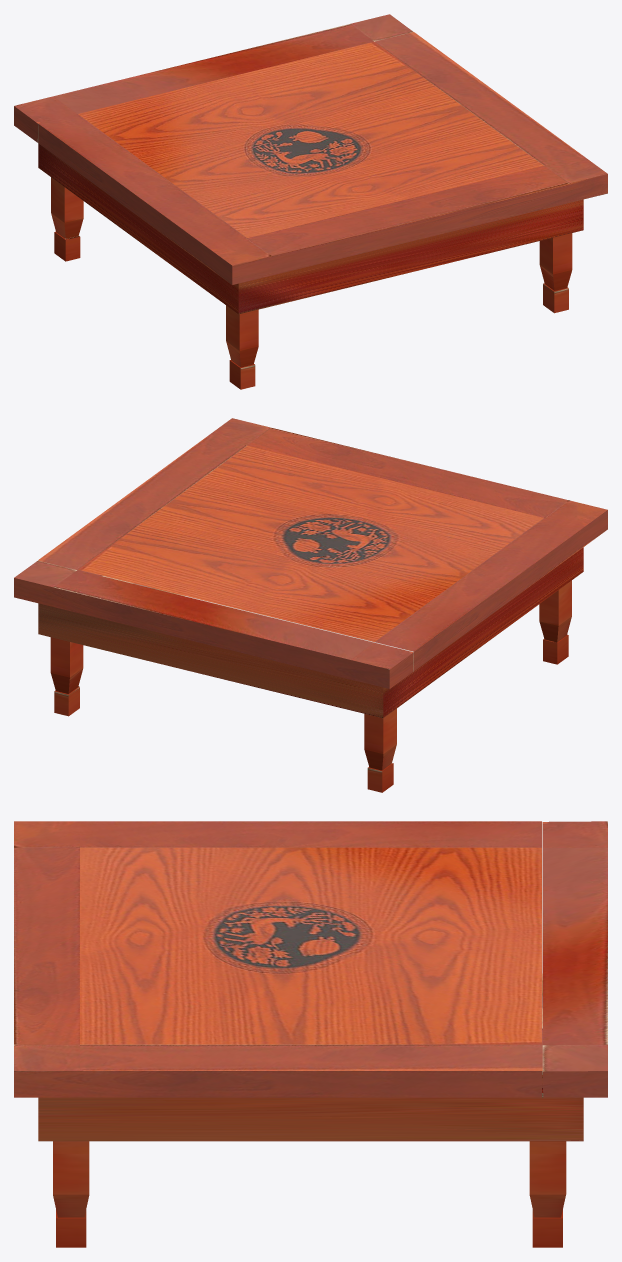
File: diningtable.fbx
The picture shows the model from 3 angles, top to bottom: view 1: azimuth 30°, elevation 25°; view 2: azimuth 150°, elevation 25°; view 3: azimuth 270°, elevation 25°; orthographic projection. The views are drawn at different scales.
Visible parts, largest first — view 1: Cube.002, Cube.004, Cube.005; view 2: Cube.002, Cube.004, Cube.005; view 3: Cube.002, Cube.004, Cube.005.
Boxes of the visible parts, bbox=[...] form: Cube.002: bbox=[14, 14, 607, 284]; Cube.004: bbox=[38, 143, 583, 314]; Cube.005: bbox=[51, 177, 572, 389]; Cube.002: bbox=[14, 418, 607, 688]; Cube.004: bbox=[38, 547, 583, 763]; Cube.005: bbox=[50, 580, 571, 792]; Cube.002: bbox=[14, 821, 607, 1097]; Cube.004: bbox=[38, 1097, 583, 1141]; Cube.005: bbox=[53, 1141, 566, 1247].
Size of the model in its own units: 255 by 91.65 by 257.
Materials: 3 (3 with a texture image).
